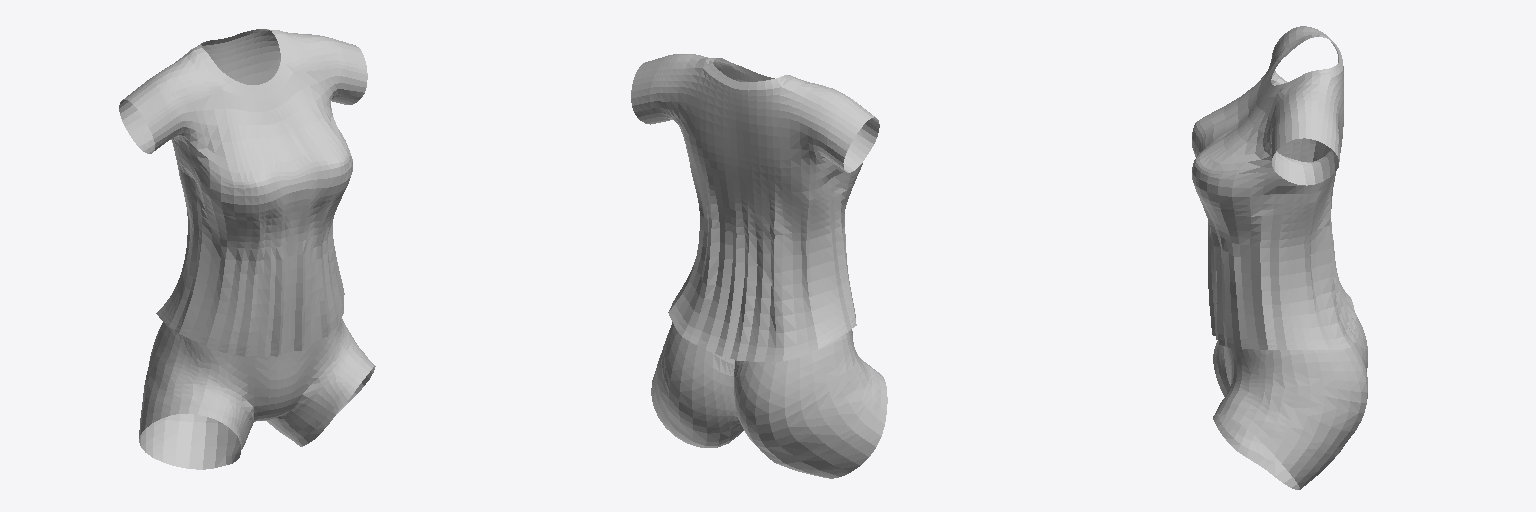
The model's file is outfit1.obj.
3 views of the same model, side by side, from view 1: azimuth 30°, elevation 25°; view 2: azimuth 150°, elevation 25°; view 3: azimuth 270°, elevation 25° (orthographic).
Visible parts, largest first — view 1: obja_fuku_06_06, obja_fuku_06_07, obja_fuku_06_10, obja_fuku_06_11, obja_fuku_06_09, obja_fuku_06_08, obja_fuku_06_05, obja_fuku_06_04, obja_fuku_06_01, obja_fuku_06_03; view 2: obja_fuku_06_07, obja_fuku_06_06, obja_fuku_06_10, obja_fuku_06_11, obja_fuku_06_09, obja_fuku_06_08, obja_fuku_06_04, obja_fuku_06_03, obja_fuku_06_05, obja_fuku_06_01; view 3: obja_fuku_06_07, obja_fuku_06_11, obja_fuku_06_06, obja_fuku_06_08, obja_fuku_06_04, obja_fuku_06_10, obja_fuku_06_02.
Part boxes in pixels (bbox=[...]): obja_fuku_06_06: bbox=[162, 30, 352, 228]; obja_fuku_06_07: bbox=[160, 196, 343, 351]; obja_fuku_06_10: bbox=[139, 322, 283, 469]; obja_fuku_06_11: bbox=[266, 318, 375, 446]; obja_fuku_06_09: bbox=[124, 71, 197, 156]; obja_fuku_06_08: bbox=[316, 35, 362, 114]; obja_fuku_06_05: bbox=[191, 30, 293, 100]; obja_fuku_06_04: bbox=[156, 293, 344, 356]; obja_fuku_06_01: bbox=[197, 29, 285, 92]; obja_fuku_06_03: bbox=[119, 96, 159, 153]; obja_fuku_06_07: bbox=[672, 190, 855, 354]; obja_fuku_06_06: bbox=[664, 54, 862, 219]; obja_fuku_06_10: bbox=[734, 329, 887, 478]; obja_fuku_06_11: bbox=[651, 322, 743, 447]; obja_fuku_06_09: bbox=[812, 91, 874, 169]; obja_fuku_06_08: bbox=[636, 54, 680, 123]; obja_fuku_06_04: bbox=[668, 293, 856, 361]; obja_fuku_06_03: bbox=[839, 113, 879, 172]; obja_fuku_06_05: bbox=[703, 58, 795, 90]; obja_fuku_06_01: bbox=[708, 58, 790, 85]; obja_fuku_06_07: bbox=[1204, 199, 1352, 344]; obja_fuku_06_11: bbox=[1213, 343, 1367, 489]; obja_fuku_06_06: bbox=[1192, 27, 1343, 223]; obja_fuku_06_08: bbox=[1262, 101, 1339, 180]; obja_fuku_06_04: bbox=[1212, 295, 1356, 349]; obja_fuku_06_10: bbox=[1213, 315, 1367, 396]; obja_fuku_06_02: bbox=[1272, 133, 1339, 185].
Size of the model in its own units: 3.52 by 5.95 by 2.35.